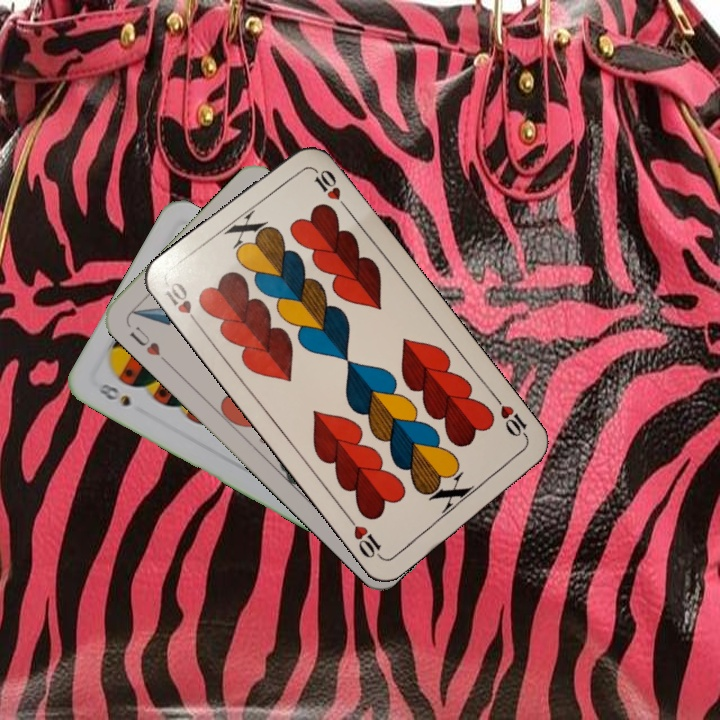H10: (160, 276, 204, 331), (491, 393, 532, 443)
HU: (125, 322, 163, 359)
S8: (94, 379, 134, 409)
